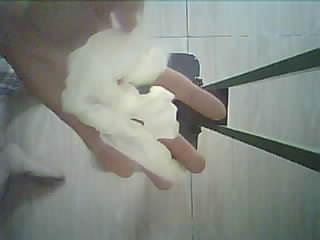paper: (62, 12, 181, 181)
